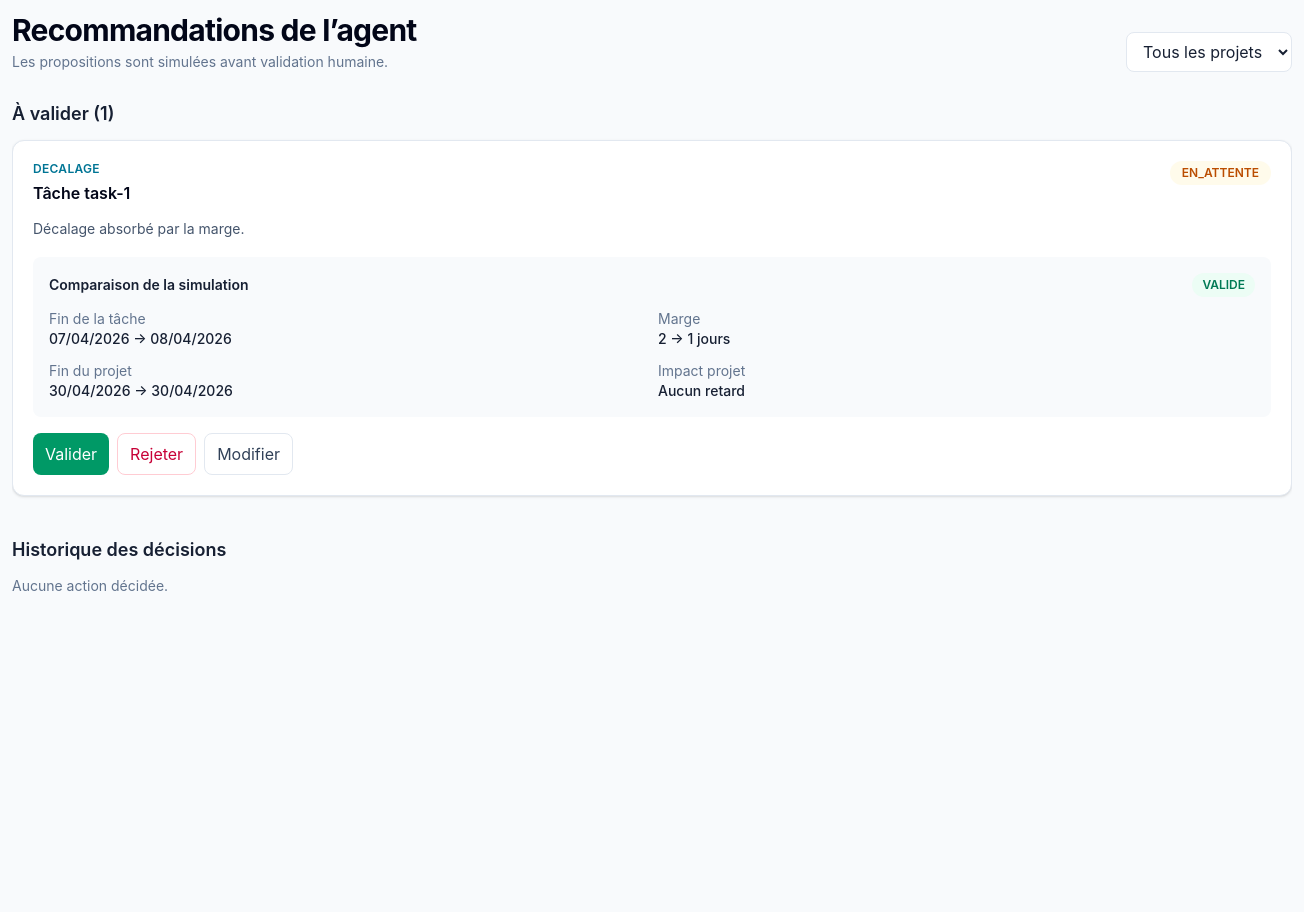
Test: Recommendations › affiche le message du conflit de planning
Expected: the text "Décalage absorbé par la marge." is shown, [33,220,244,237]
Click the button "Valider": x=71, y=454 [33,433,109,475]
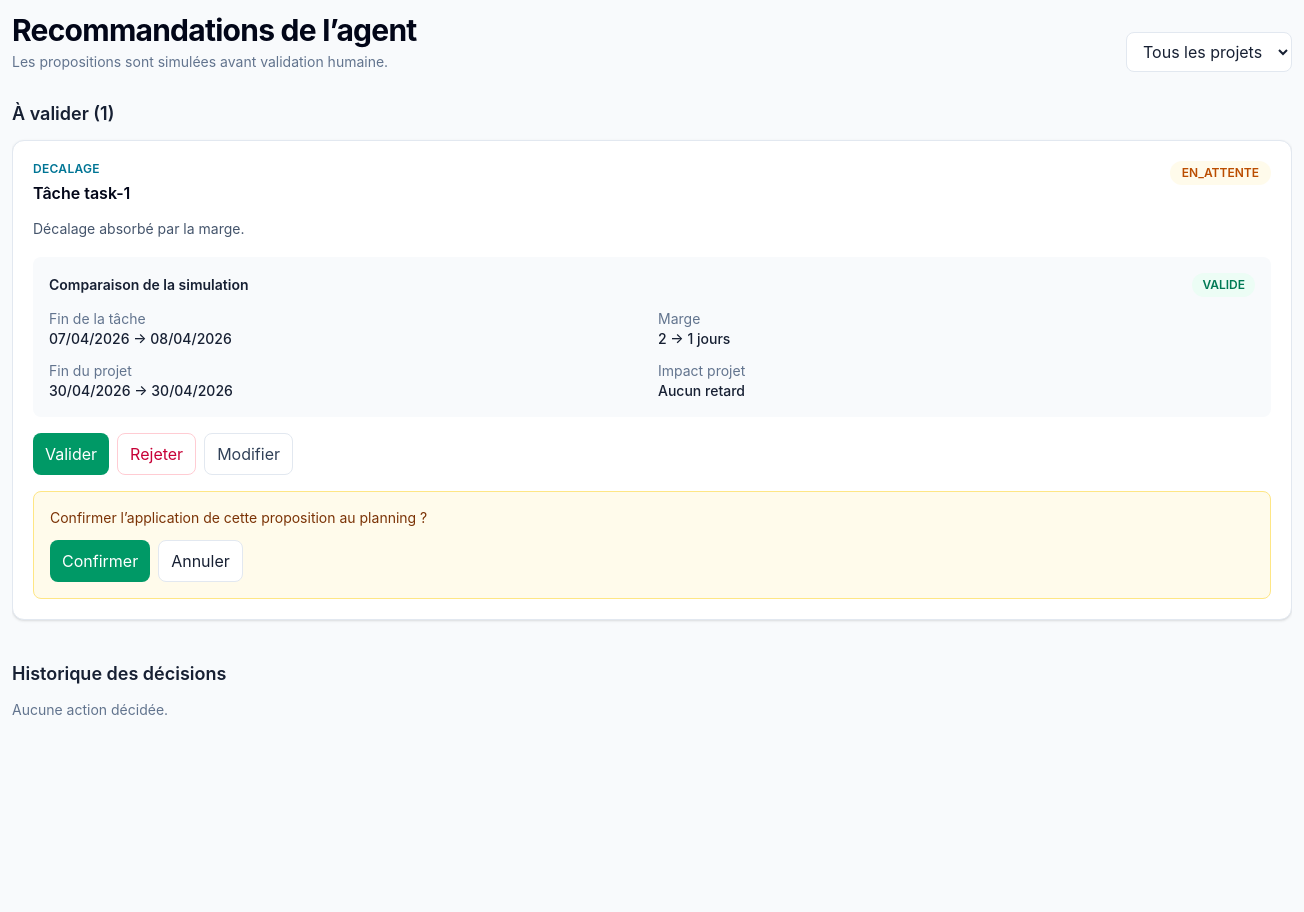
Click the button "Confirmer": x=100, y=561 [50,540,150,582]
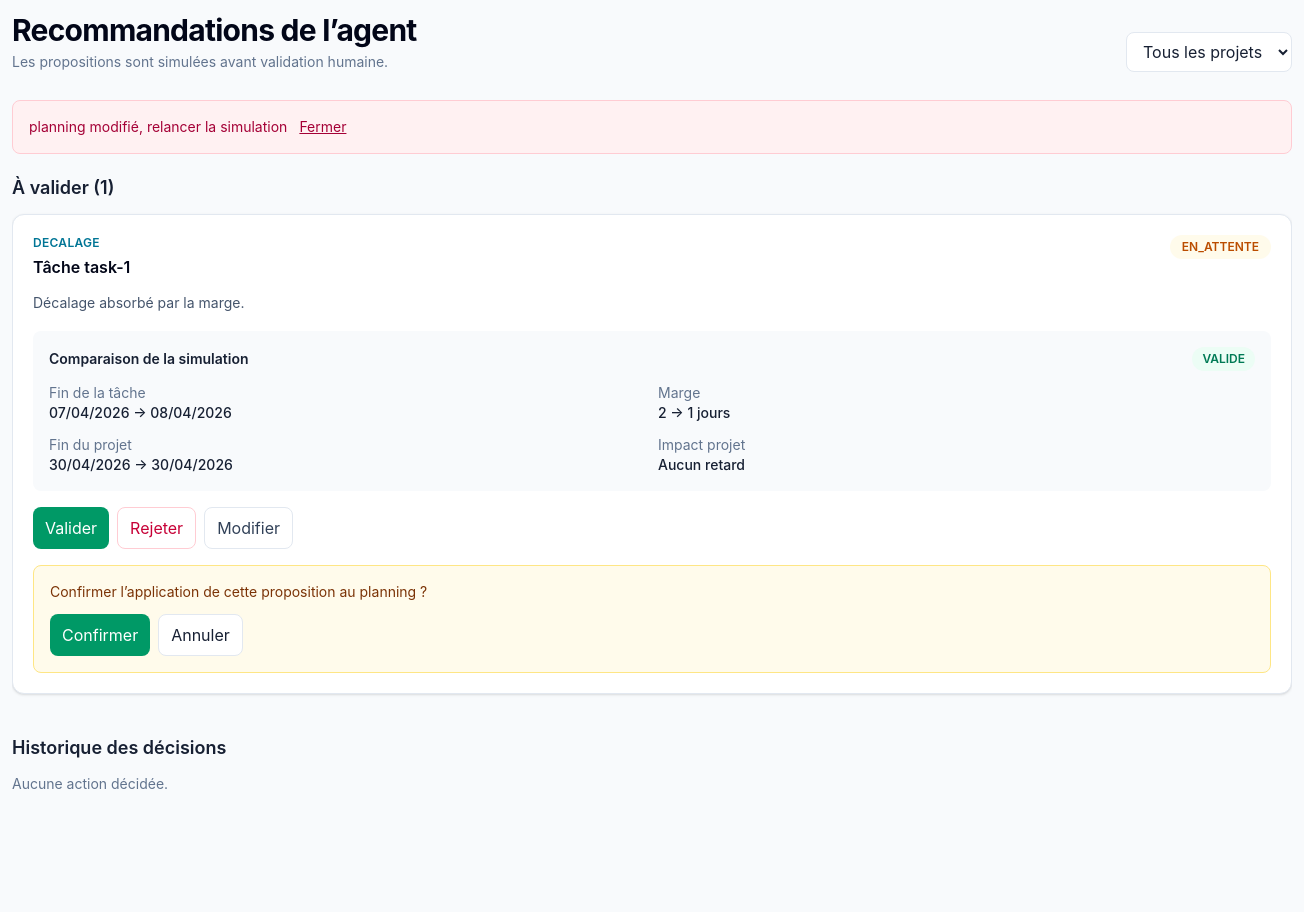
Result: the text "planning modifié, relancer la simulation" is shown at [29,118,287,135]
